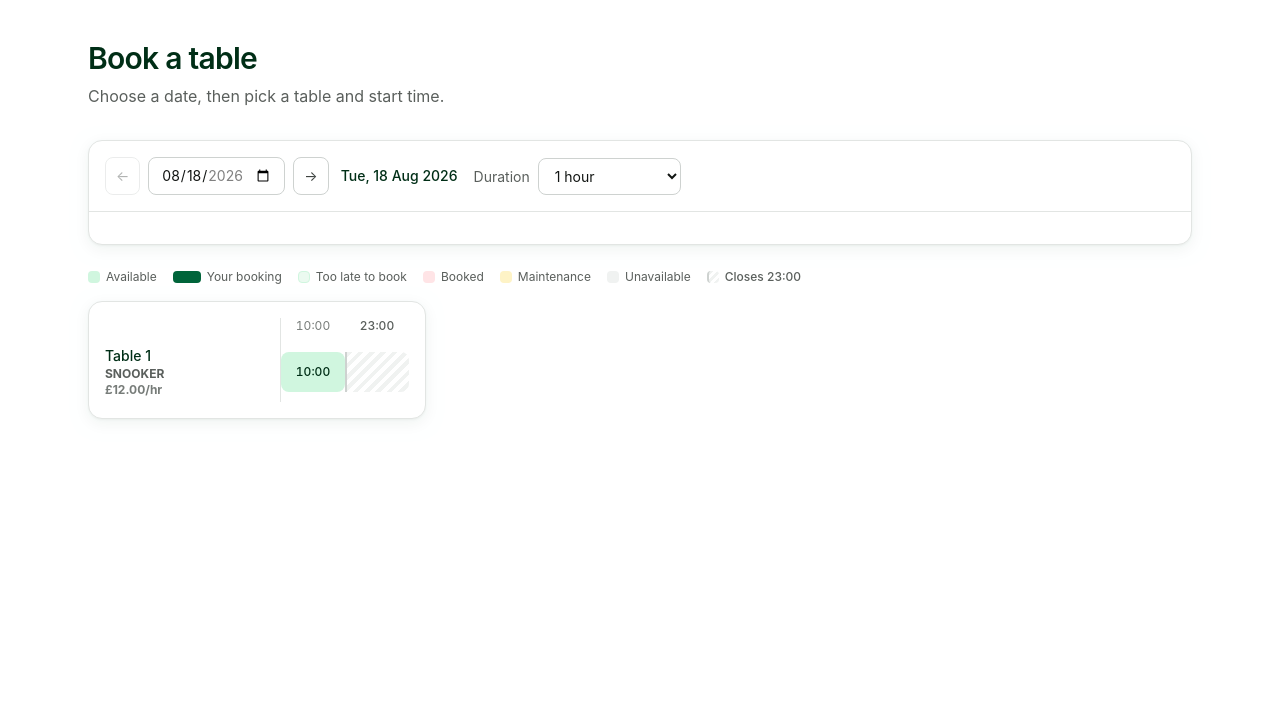
BookPage › reprices the selection when the duration changes
This screenshot has width=1280, height=720.
Click the button "10:00" at [313, 372], box [281, 352, 345, 392]
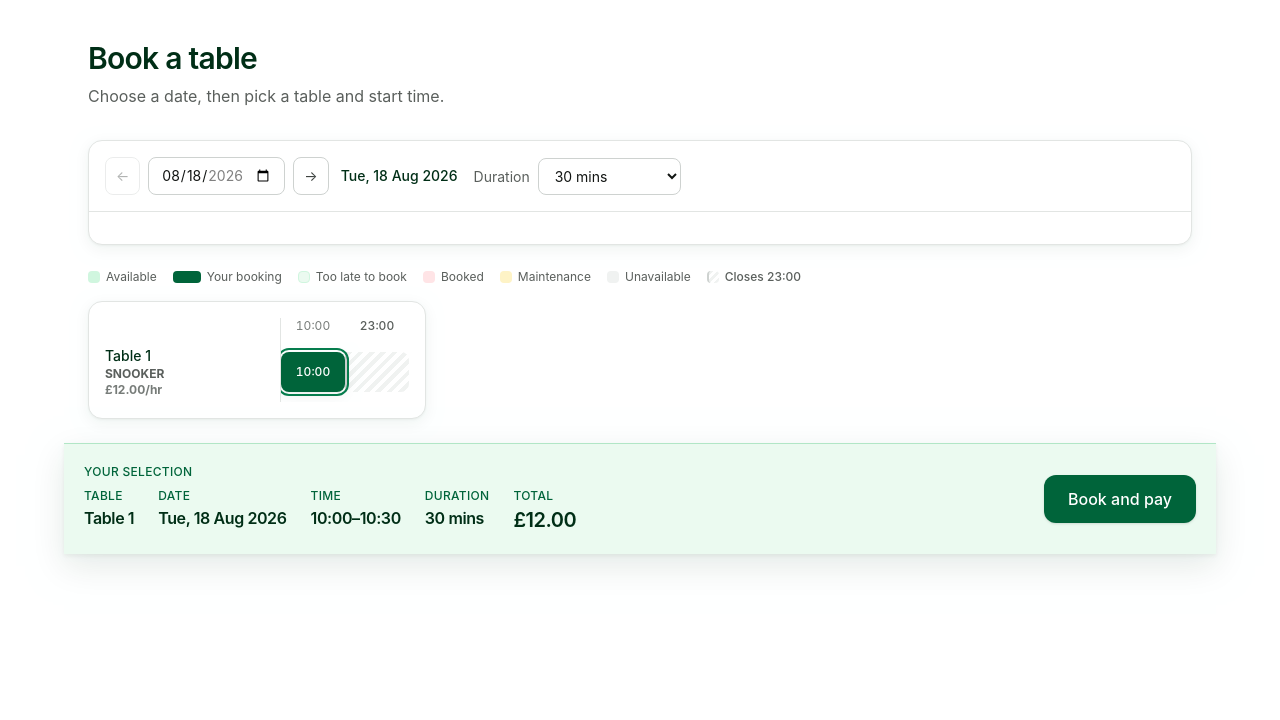
Select "1 hour" in the dropdown labelled "Duration" at [609, 176], box [538, 158, 681, 194]
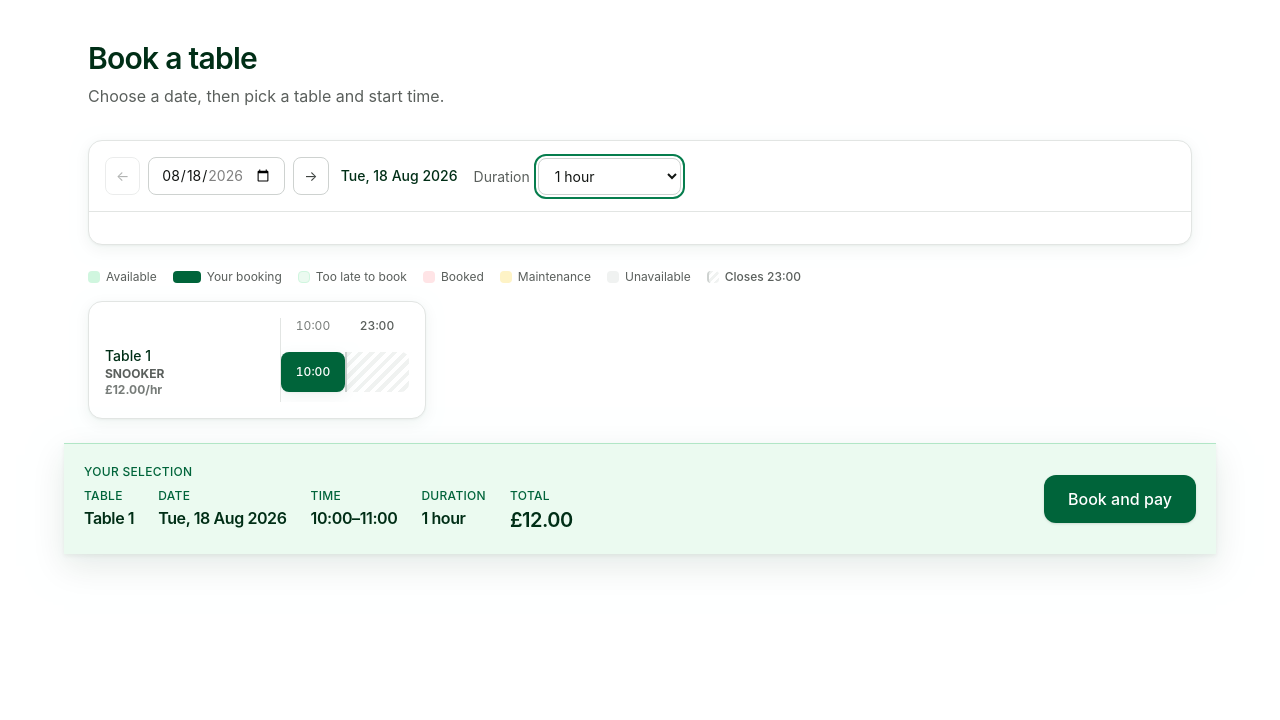
Now the element that starts with "Your selection" shows "£12.00", box [510, 508, 573, 532]
Select "1 hour 30 mins" in the dropdown labelled "Duration" at [609, 176], box [538, 158, 681, 194]
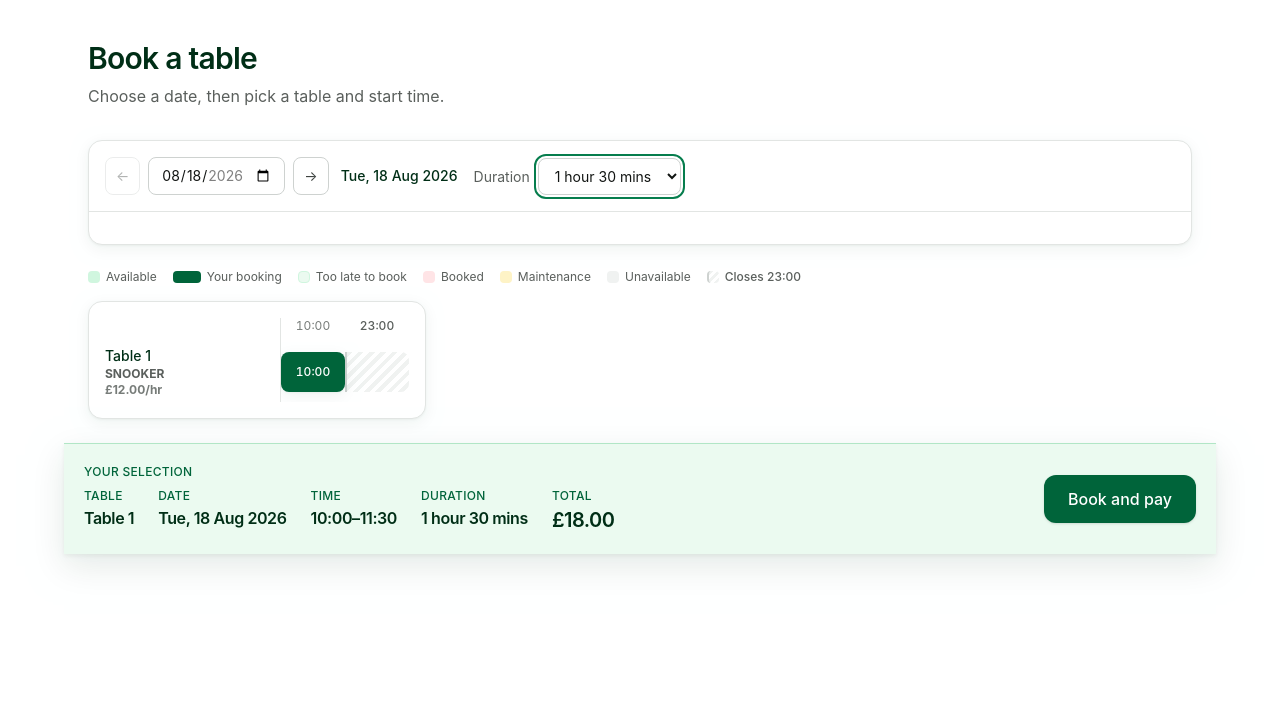
Now the element that starts with "Your selection" shows "£18.00", box [552, 508, 614, 532]
Now the element that starts with "Your selection" shows "10:00–11:30", box [310, 508, 397, 528]
